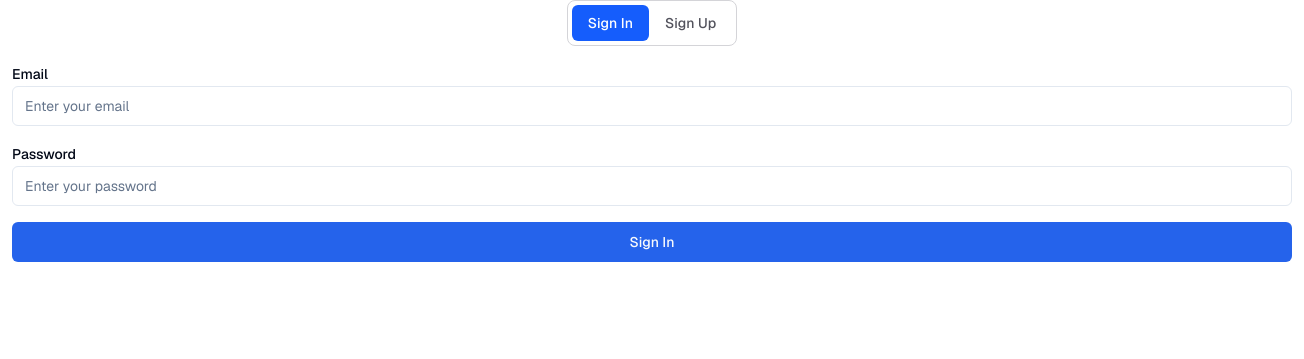
Test: EmailPasswordForm Component (RED PHASE) › Form Rendering › should switch back to sign in form when Sign In tab is clicked
Click the button "Sign Up": (691, 23) left=649, top=5, right=732, bottom=41
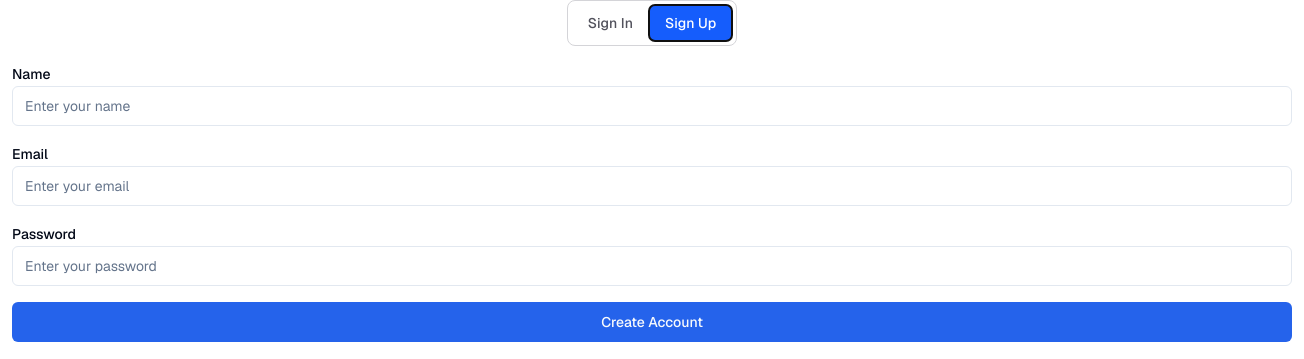
Expected: the field labelled "Name" is shown, left=12, top=86, right=1292, bottom=126
Click the button "Sign In": (610, 23) left=572, top=5, right=649, bottom=41
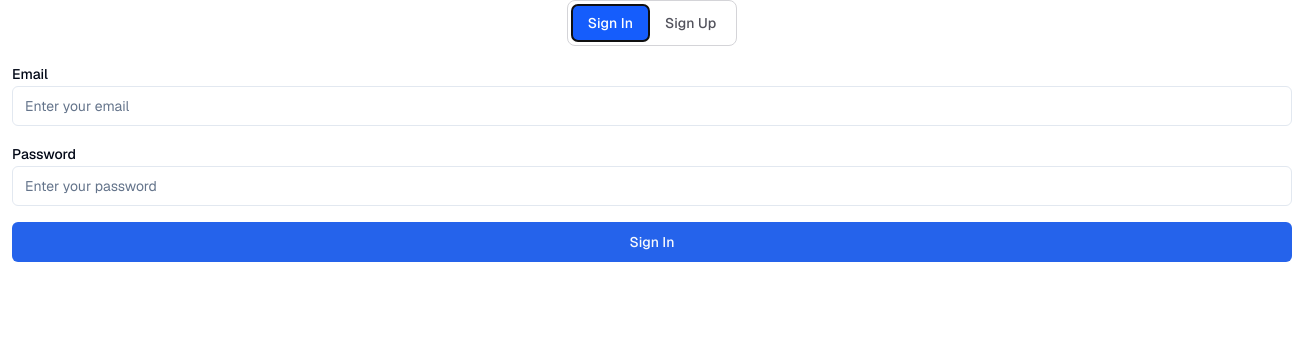
Expected: the button "Sign In" below "Password" is shown, left=12, top=222, right=1292, bottom=262
Expected: the label labelled "Name" is gone
